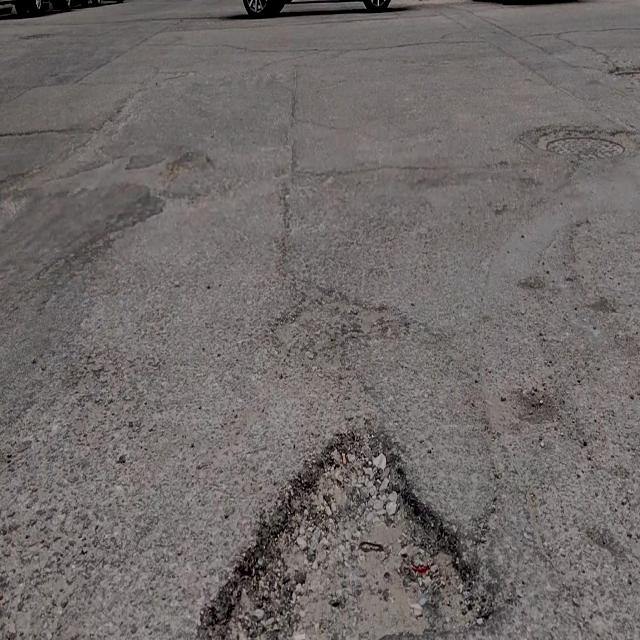Potholes: (197, 427, 502, 640)
